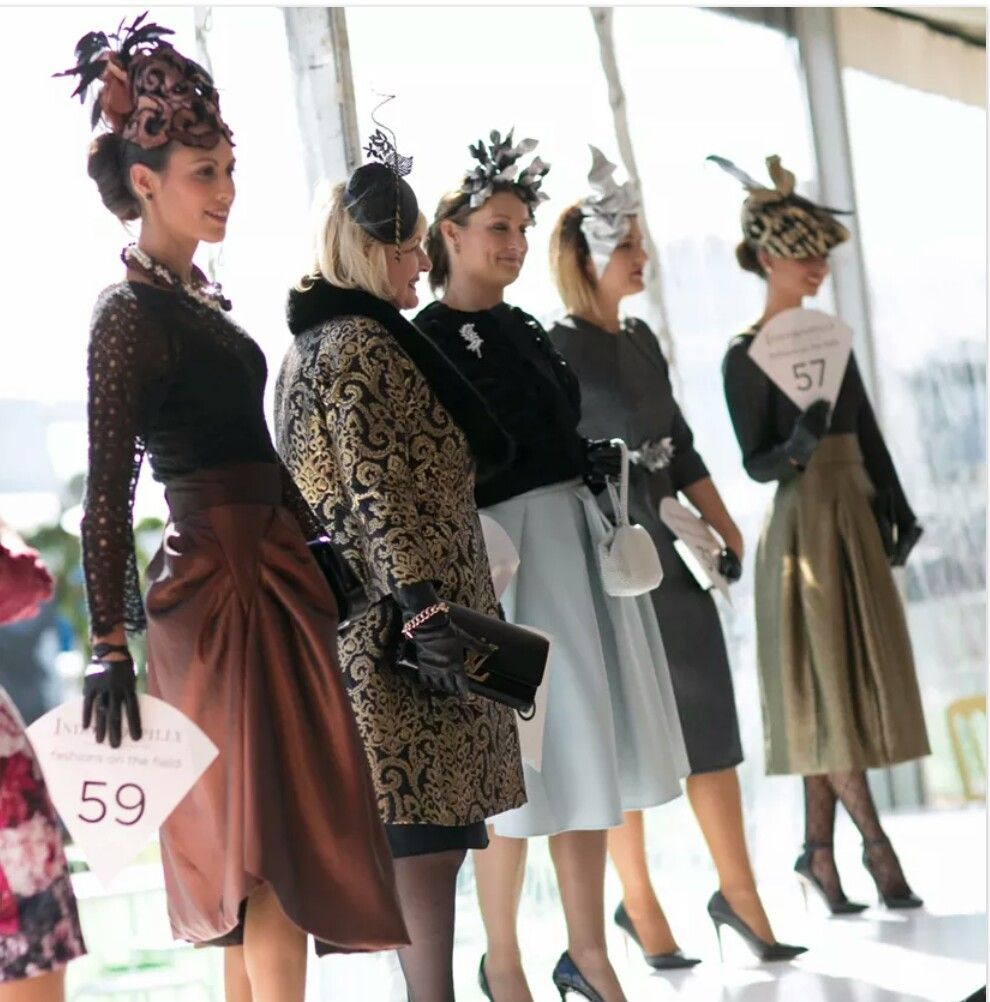Person: (80, 3, 344, 1002), (724, 150, 929, 911), (272, 92, 451, 511), (550, 142, 738, 525), (427, 120, 579, 436)
